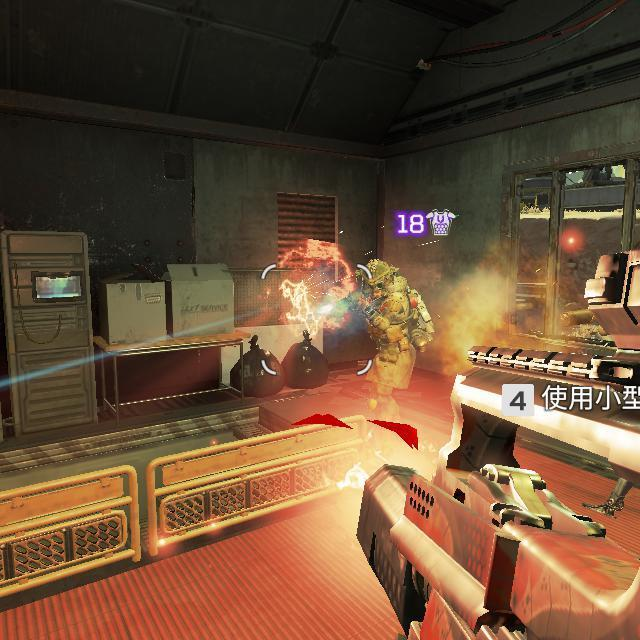avatar: (350, 254, 440, 421)
